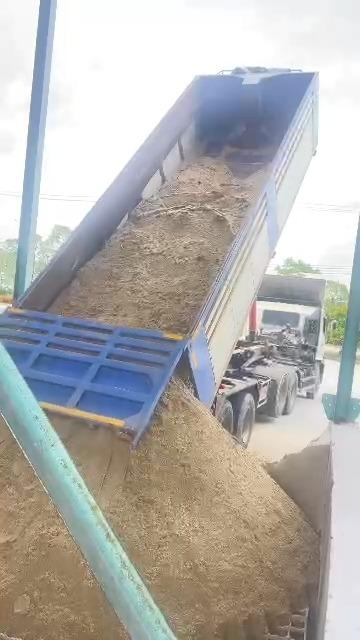sand: (53, 361, 317, 638), (55, 384, 317, 639), (100, 384, 317, 638), (51, 158, 263, 332), (52, 160, 259, 331), (0, 427, 125, 639), (0, 419, 118, 639), (0, 441, 126, 639), (265, 431, 329, 529)
